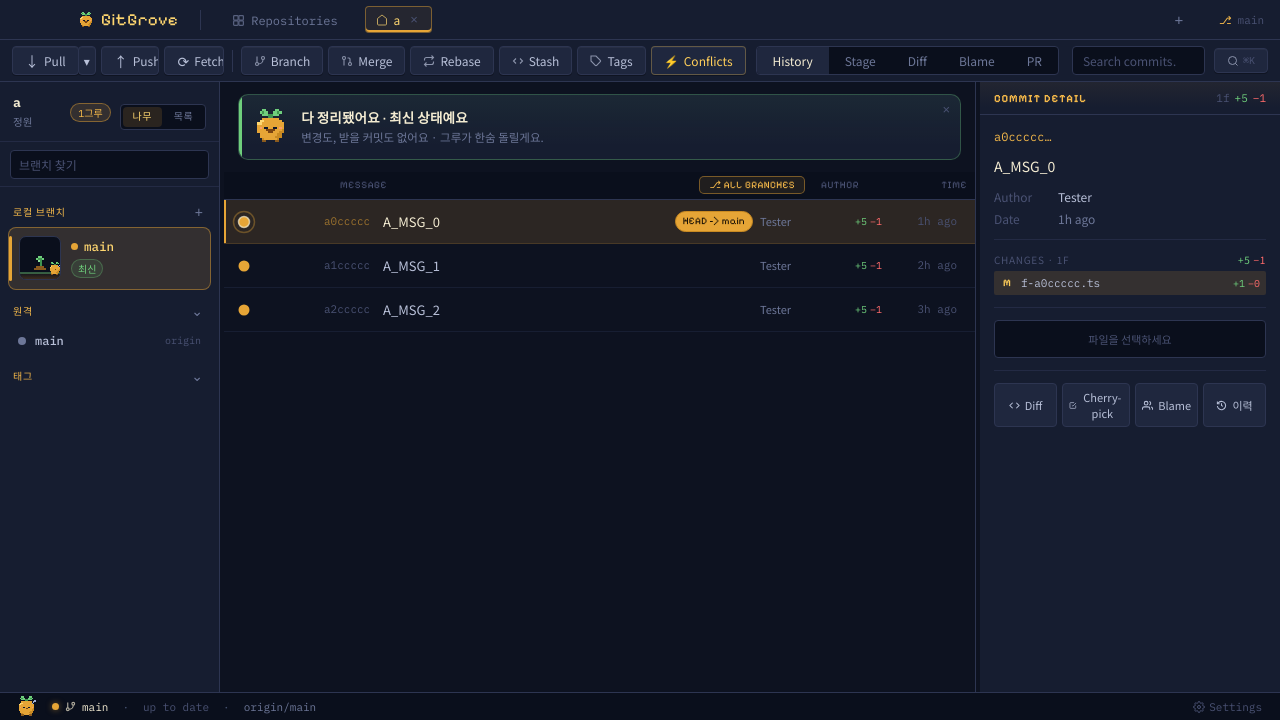
리포 전환 시 뷰 선택 리셋 (변경1) › (b) 같은 path silent 갱신(Pull)에선 선택을 보존한다(리셋 안 함)
Click the text "A_MSG_2" at (411, 309), box [383,300,440,319]
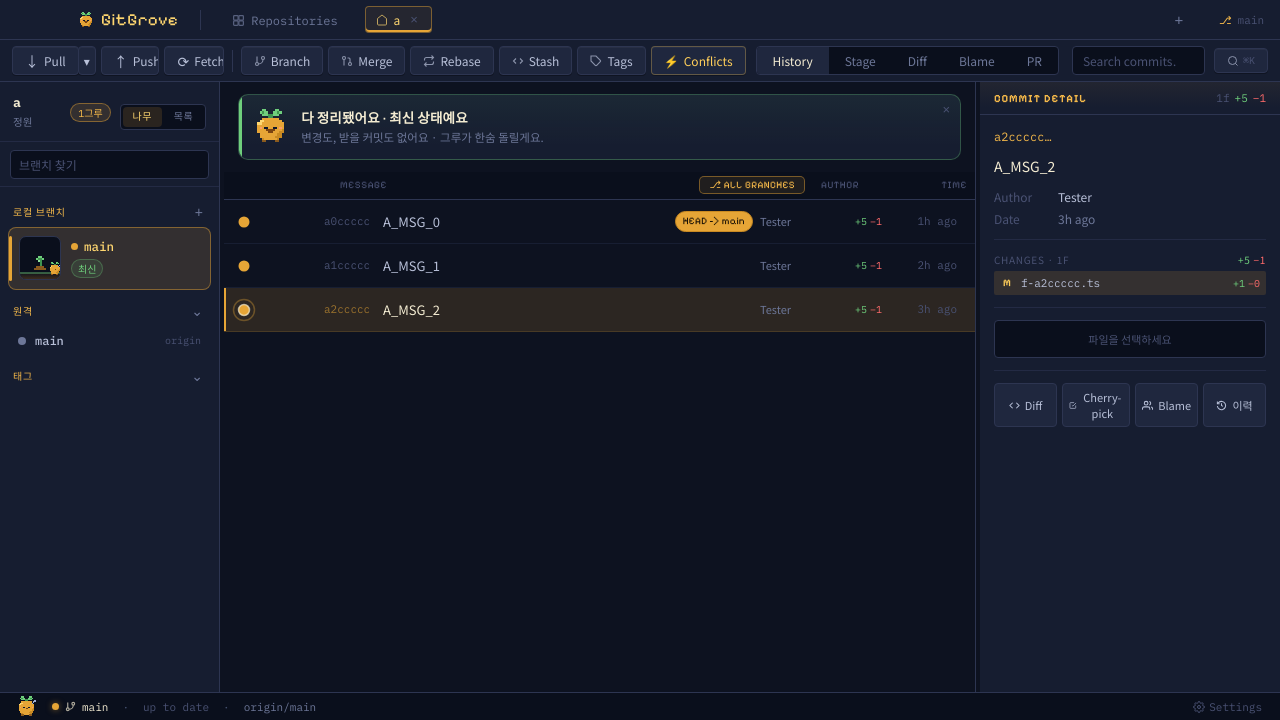
Click the button "↓ Pull" at (45, 60), box [12,46,79,75]
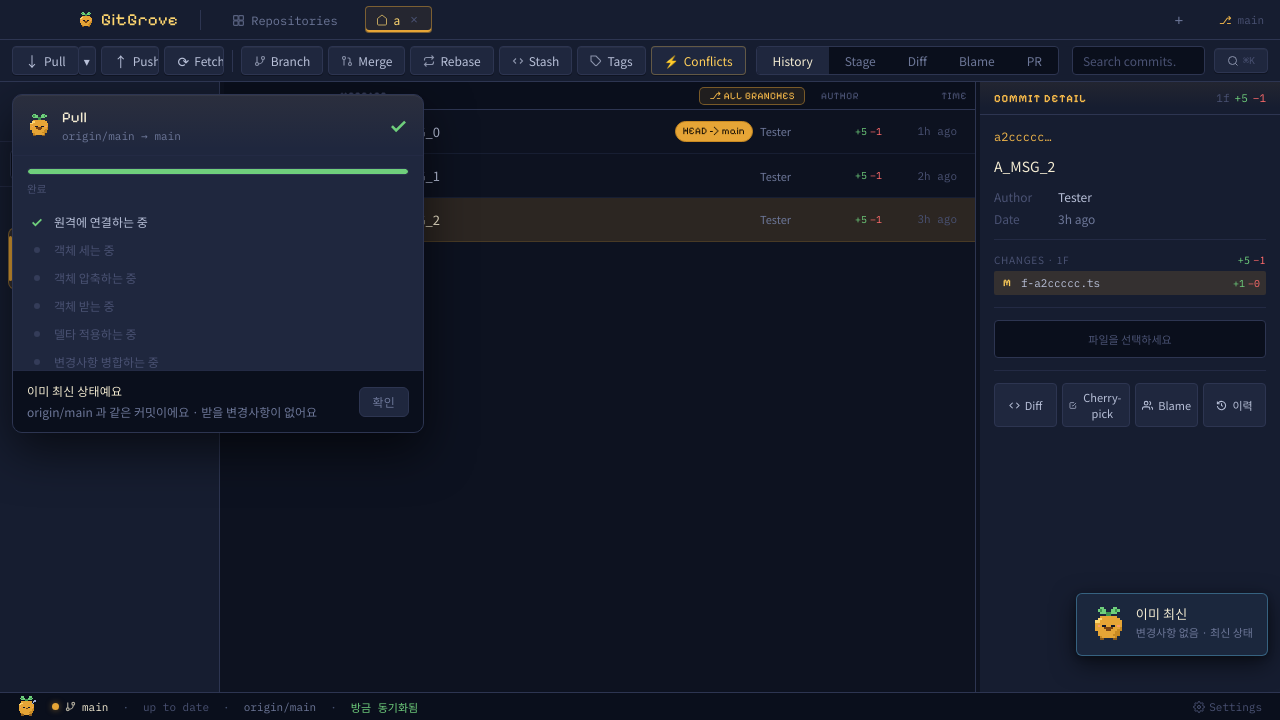
Expected: the text "A_MSG_2" below "A_MSG_1" is shown, [383,210,440,229]
Now the text "이미 최신 상태예요" is shown, box [27,385,122,399]
